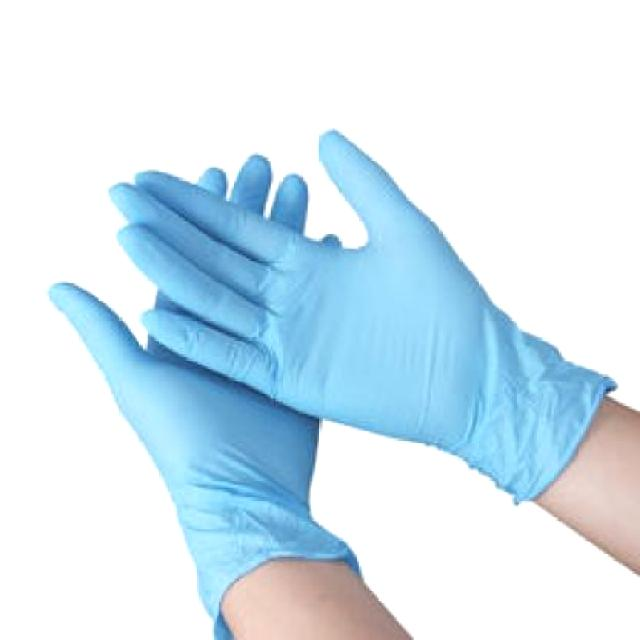glove: (41, 106, 614, 612)
